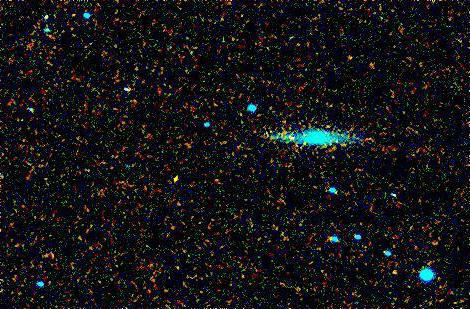star: (166, 159, 196, 189)
